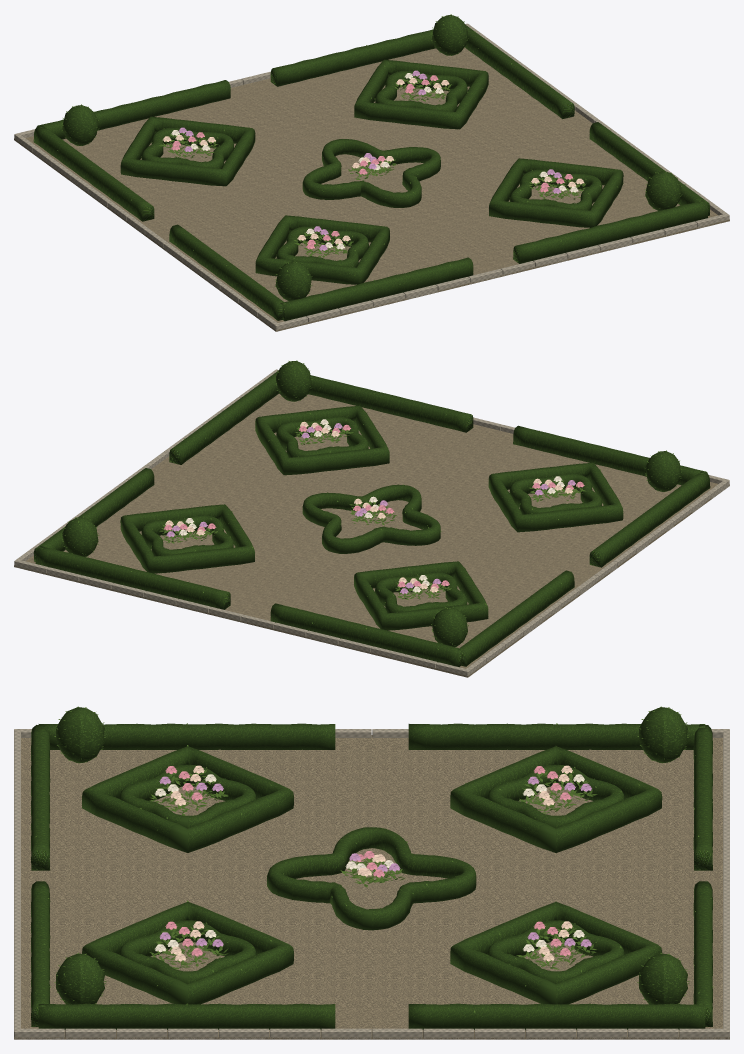
Rendered from parterre-before-stems.glb.
The picture shows the model from 3 angles, top to bottom: view 1: azimuth 30°, elevation 25°; view 2: azimuth 150°, elevation 25°; view 3: azimuth 270°, elevation 25°; orthographic projection. The views are drawn at different scales.
Visible parts, largest first — view 1: Garden_parterre.001; view 2: Garden_parterre.001; view 3: Garden_parterre.001.
Boxes of the visible parts, <box> form: Garden_parterre.001: <box>14,14,729,331</box>; Garden_parterre.001: <box>14,360,729,677</box>; Garden_parterre.001: <box>14,706,729,1039</box>.
Size of the model in its own units: 14 by 1.23 by 14.
5 materials, 4 textured.
